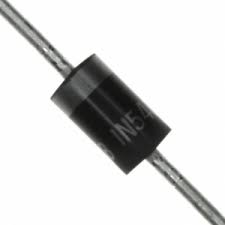diode: (43, 43, 188, 188)
